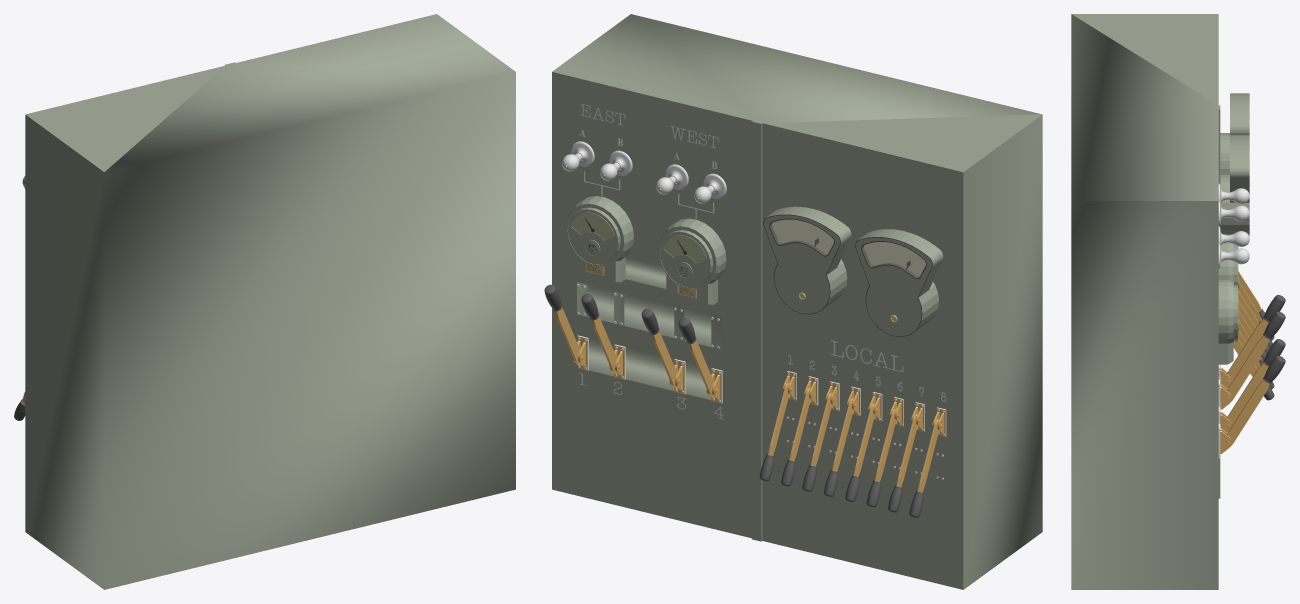
File: 2boxtryuntitled.fbx
3 renders of one model, left to right at view 1: azimuth 30°, elevation 25°; view 2: azimuth 150°, elevation 25°; view 3: azimuth 270°, elevation 25°, orthographic. The views are drawn at different scales.
Parts seen in each view (by area): view 1: skpC819_001; view 2: skpC819_001, Component11_002, Component11_001, Component13_003, Component13_001, Component5_002, Component5_004, Component5_001, Component5_003, Component_007, Component_002, Component_001 (+5 smaller); view 3: skpC819_001, Component11_002, Component13_001, Component11_001, Component5_002, Component5_004, Component5_003, Component5_001, Component13_003, Component10_002, Component17_004.
Part boxes in pixels (x1,y1,x2,y2): skpC819_001: (25, 14, 515, 589); skpC819_001: (552, 14, 1042, 589); Component11_002: (763, 206, 851, 314); Component11_001: (855, 229, 943, 336); Component13_003: (658, 218, 726, 305); Component13_001: (565, 196, 633, 282); Component5_002: (641, 308, 677, 386); Component5_004: (544, 284, 579, 363); Component5_001: (678, 317, 714, 395); Component5_003: (581, 293, 616, 372); Component_007: (888, 414, 917, 512); Component_002: (845, 404, 874, 502); Component_001: (781, 388, 810, 486); skpC819_001: (1071, 14, 1220, 589); Component11_002: (1220, 135, 1249, 235); Component13_001: (1218, 279, 1238, 364); Component11_001: (1220, 93, 1249, 174); Component5_002: (1226, 311, 1285, 401); Component5_004: (1227, 355, 1285, 445); Component5_003: (1227, 339, 1285, 426); Component5_001: (1227, 295, 1285, 382); Component13_003: (1218, 242, 1238, 288); Component10_002: (1218, 423, 1231, 458); Component17_004: (1226, 248, 1249, 264).
Size of the model in its own units: 220 by 213 by 107.
